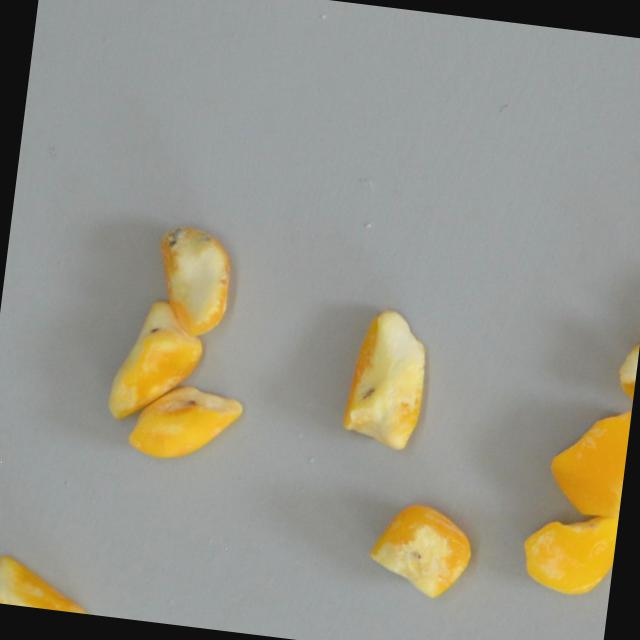dañado: (337, 304, 433, 451), (124, 377, 244, 466), (146, 221, 236, 339)
pelicula: (542, 400, 631, 519), (516, 500, 619, 599)
punto_negro: (104, 294, 207, 428), (364, 497, 475, 602), (0, 553, 96, 614), (611, 329, 640, 421)
